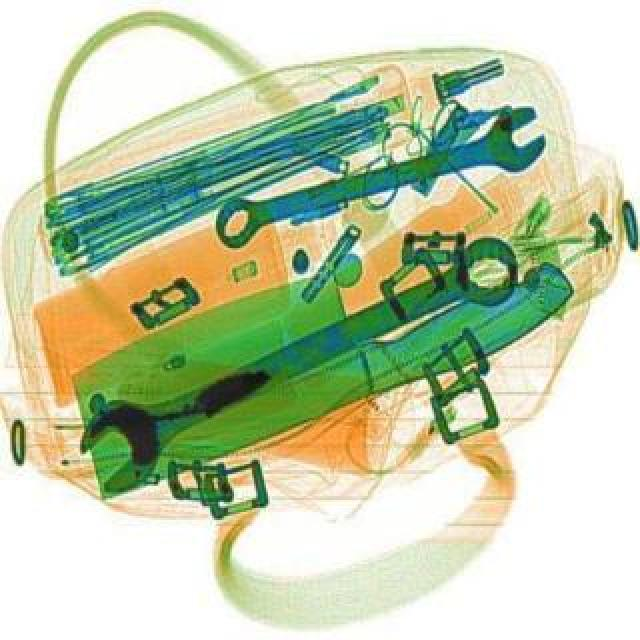knife: (42, 190, 586, 494)
scissors: (60, 210, 532, 496), (202, 100, 554, 254)
